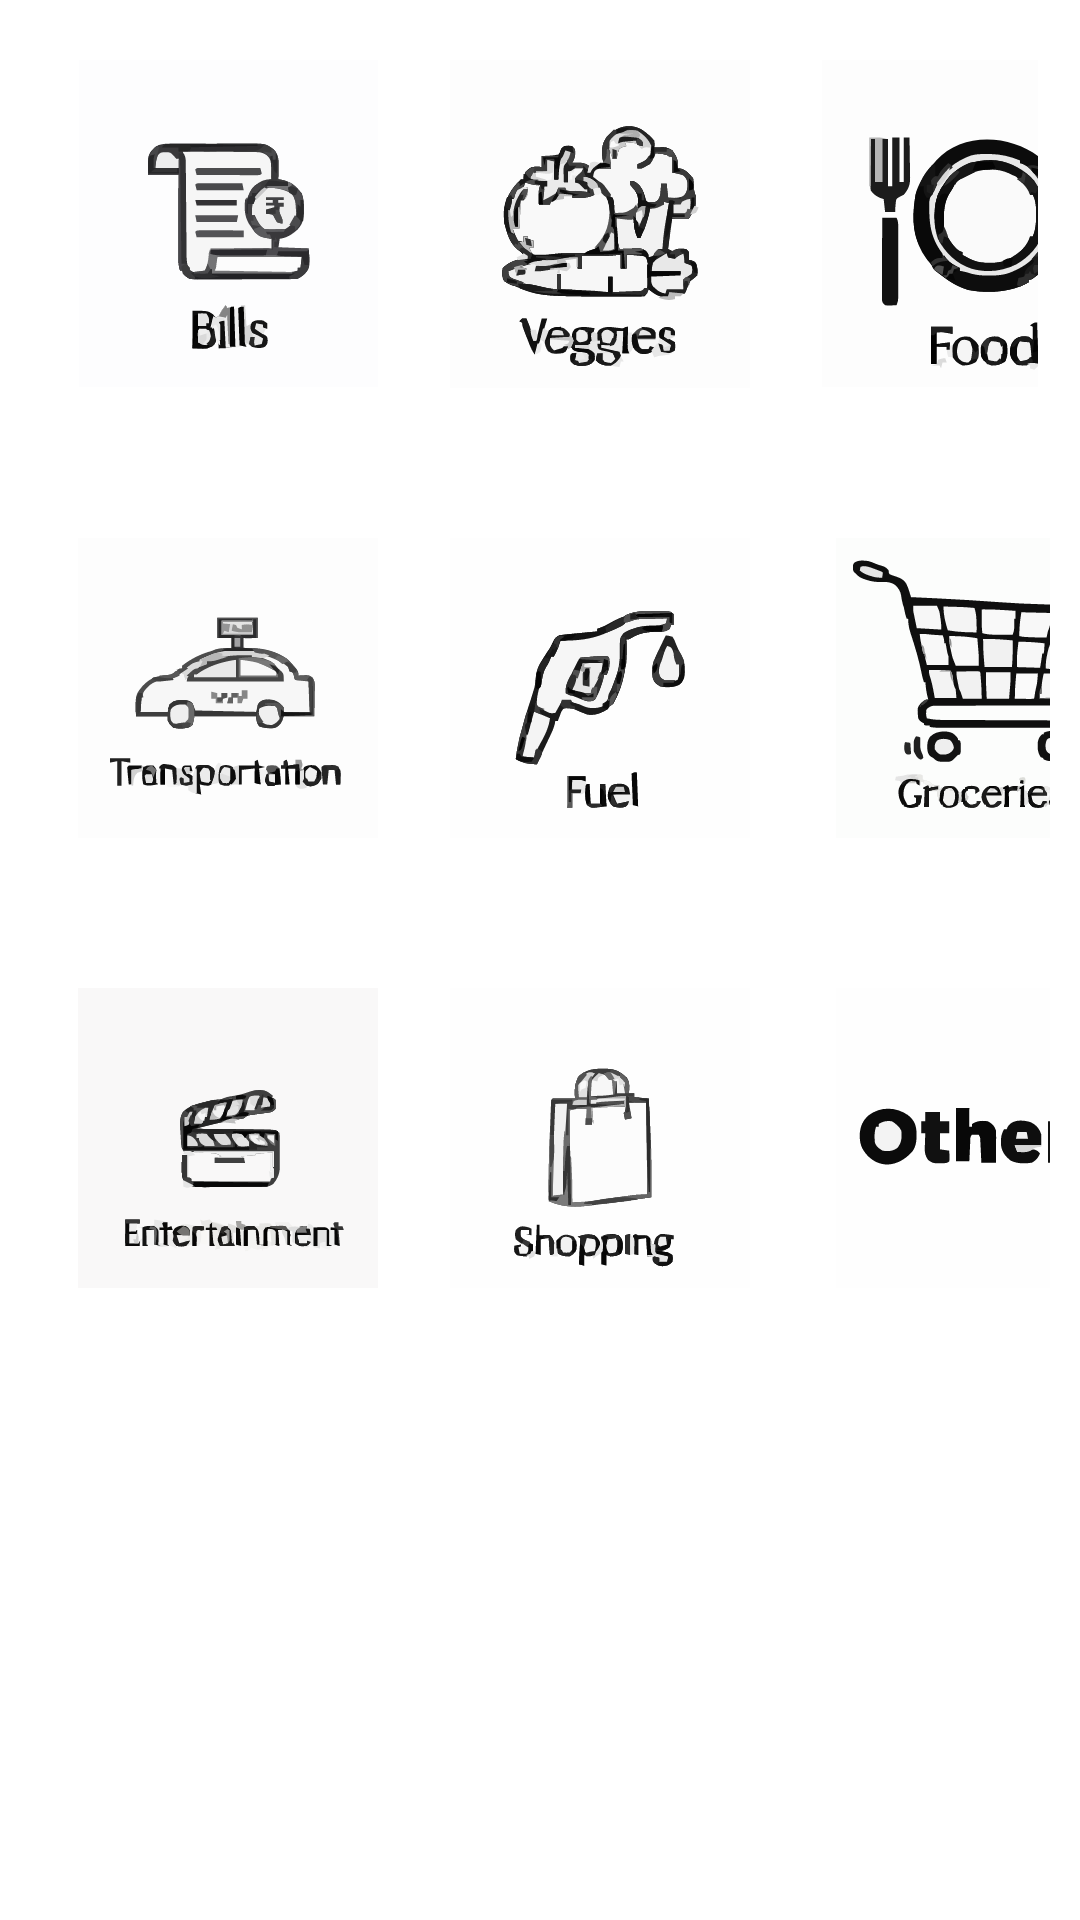

Where icons sit on this 1080*1920 app screen, as [left=x1, top=y1, right=x2, bottom=y2]:
taxi: [left=110, top=617, right=341, bottom=795]
